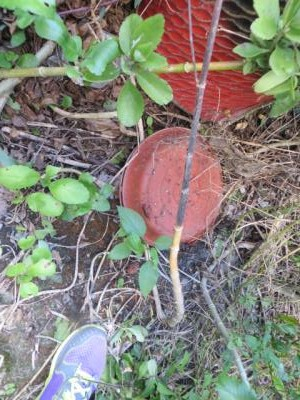plate: (118, 124, 224, 249)
